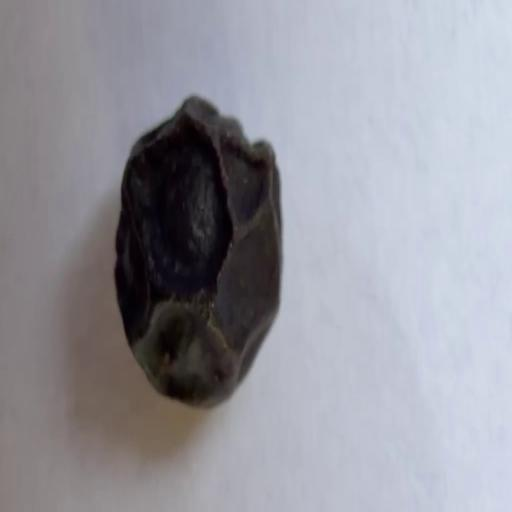Black_pepper: (99, 92, 298, 428)
